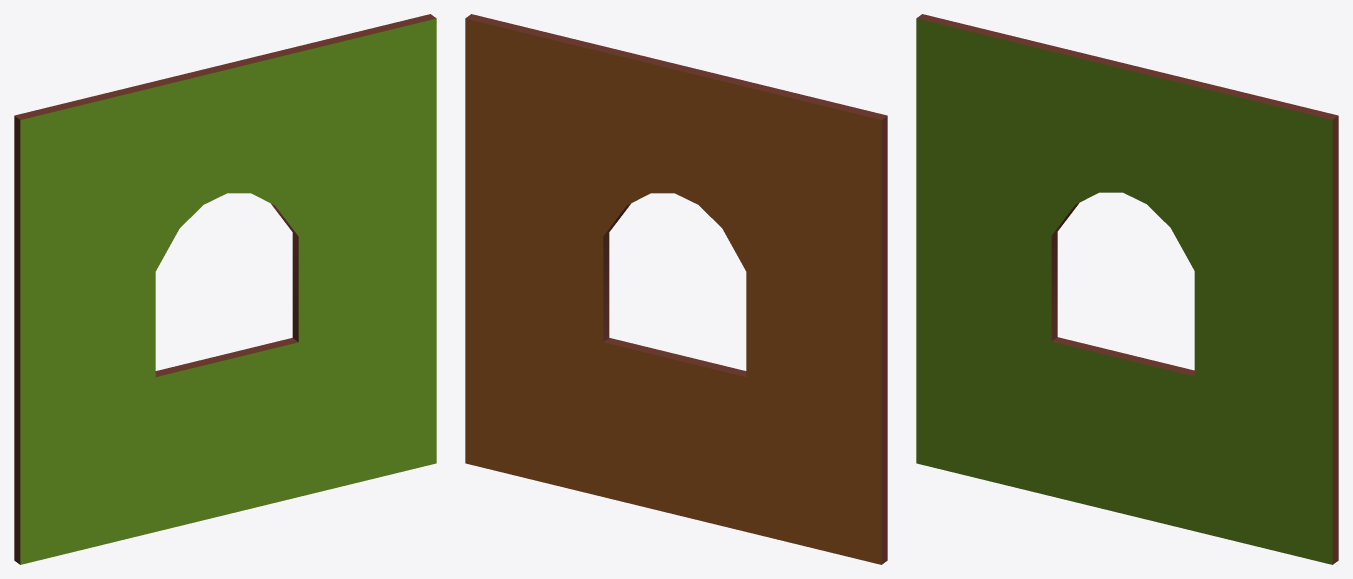
File: ParedVentana4.fbx
3 renders of one model, left to right at view 1: azimuth 30°, elevation 25°; view 2: azimuth 150°, elevation 25°; view 3: azimuth 330°, elevation 25°, orthographic.
Visible parts, largest first — view 1: ParedVentana3; view 2: ParedVentana3; view 3: ParedVentana3.
Boxes of the visible parts, <box> form: ParedVentana3: <box>14,14,436,564</box>; ParedVentana3: <box>465,14,887,564</box>; ParedVentana3: <box>916,14,1338,564</box>.
Bounding box in the file's own units: 390 × 398 × 10.
